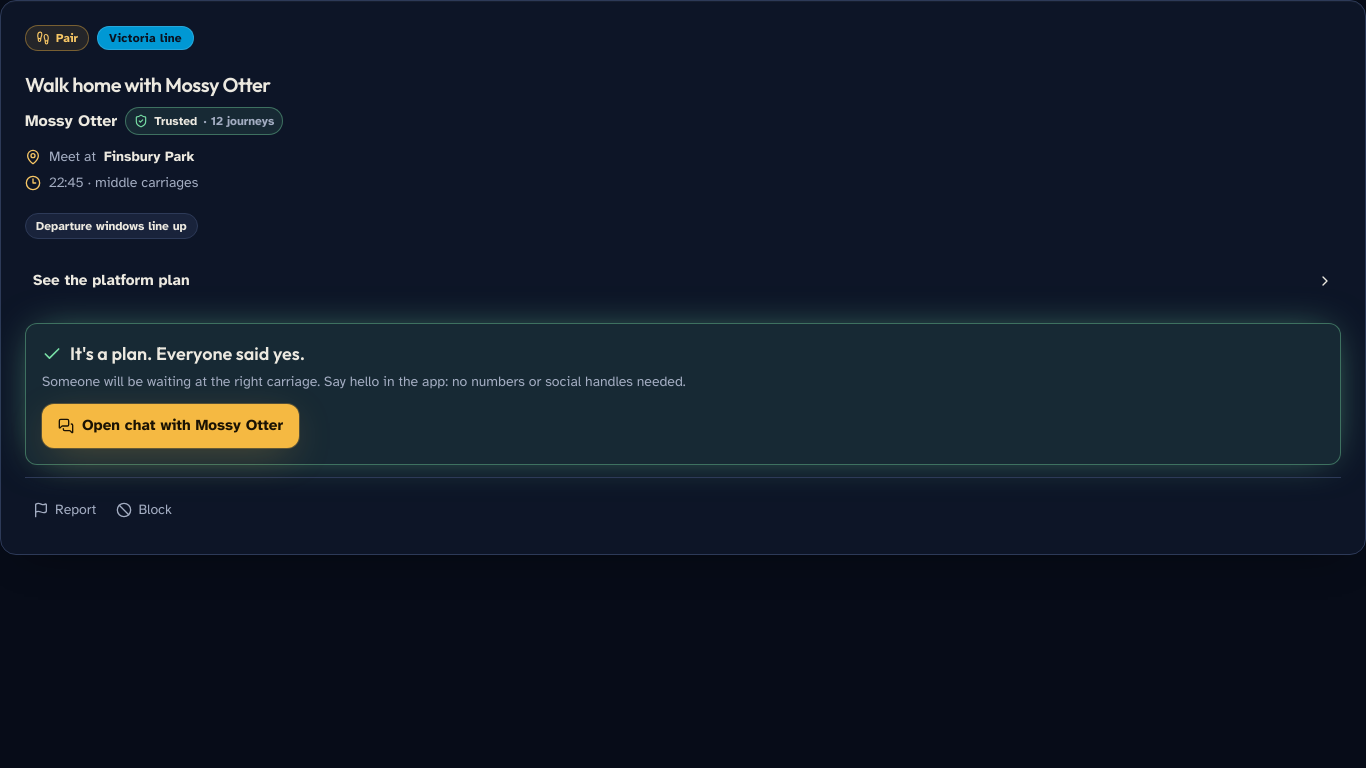
Scenario: "We travelled together" › goes idle → waiting for them → completed, and shows the updated badge
What coordinates should you click on to do the following:
click the button "See the platform plan"
I would click on:
 (111, 280)
Its box is [17, 258, 1349, 302].
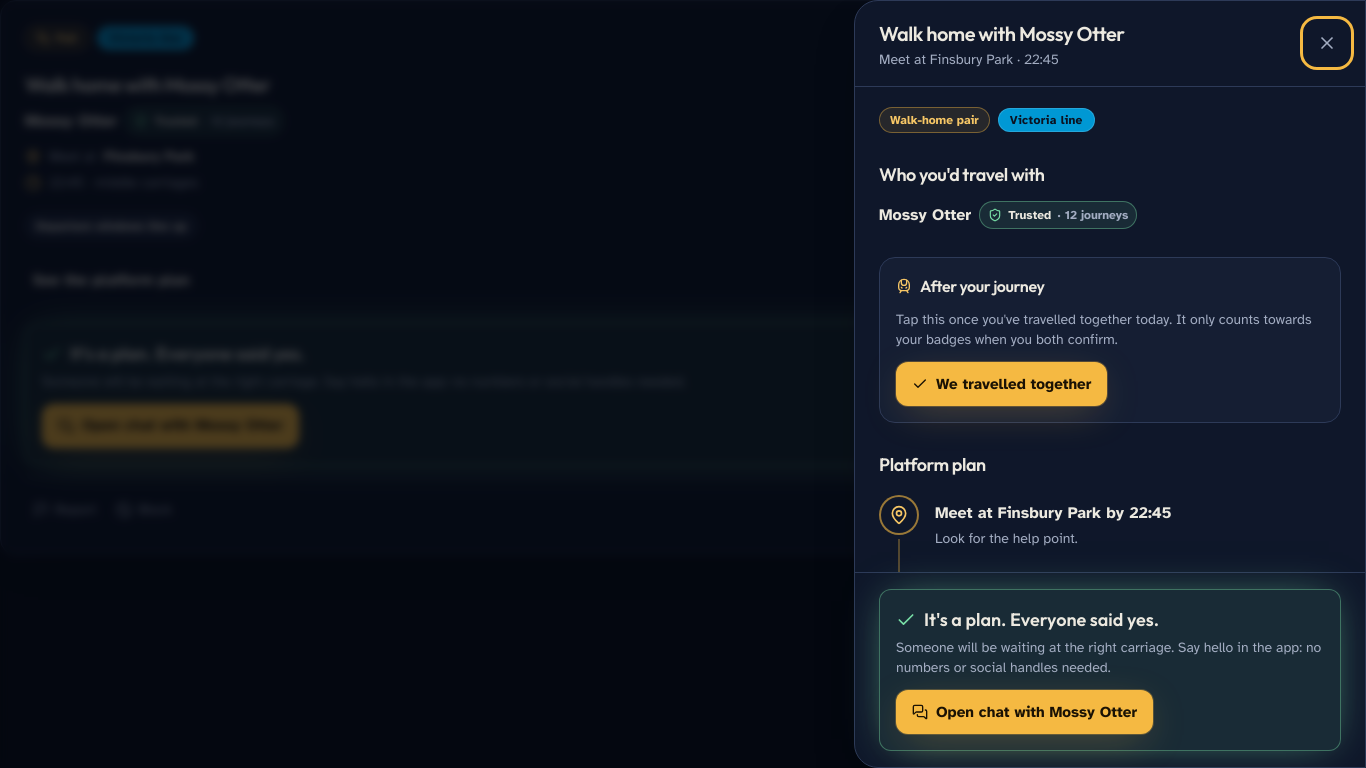
What coordinates should you click on to do the following:
click the button "We travelled together"
I would click on:
 (1002, 384)
Its box is [896, 362, 1107, 406].
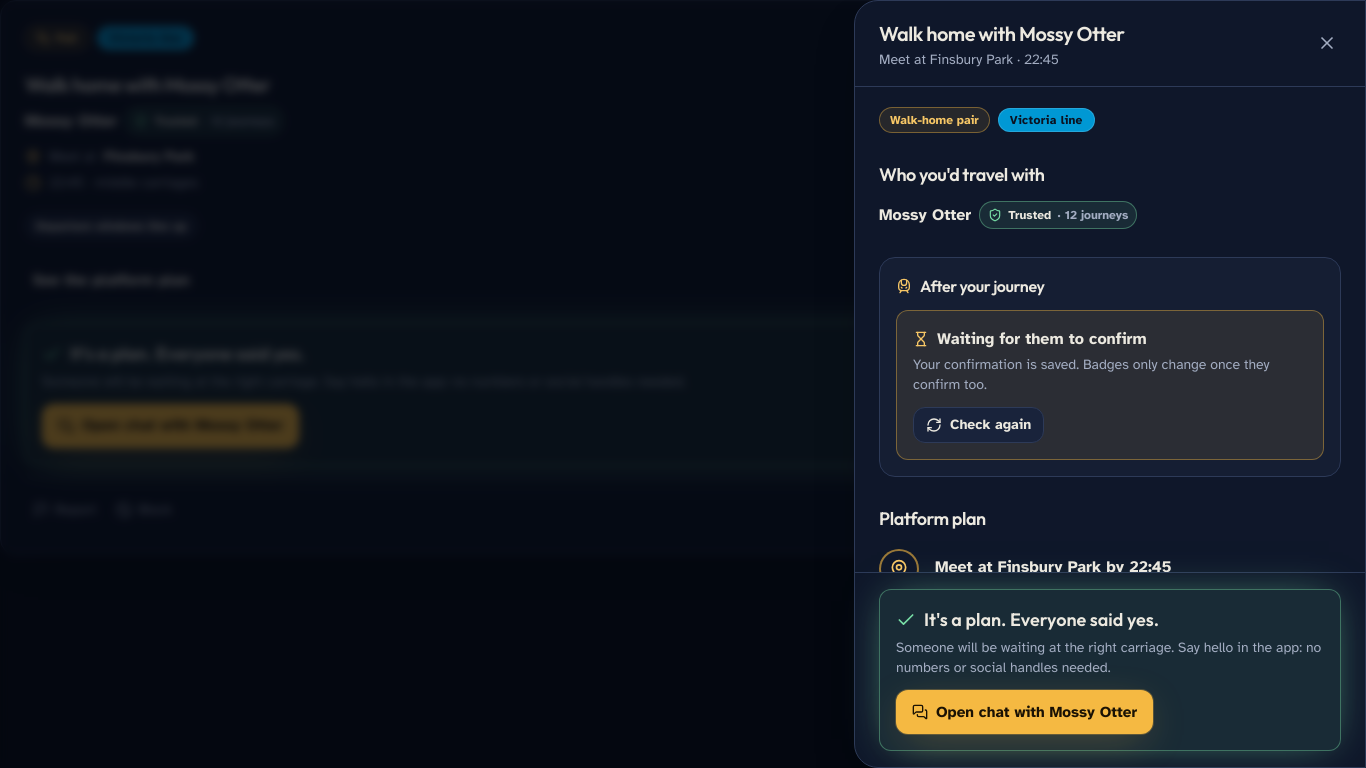
Expected: the text "Waiting for them to confirm" is shown, [913, 329, 1147, 349]
What coordinates should you click on to do the following:
click the button "Check again"
I would click on:
 (979, 425)
Its box is [913, 407, 1044, 443].
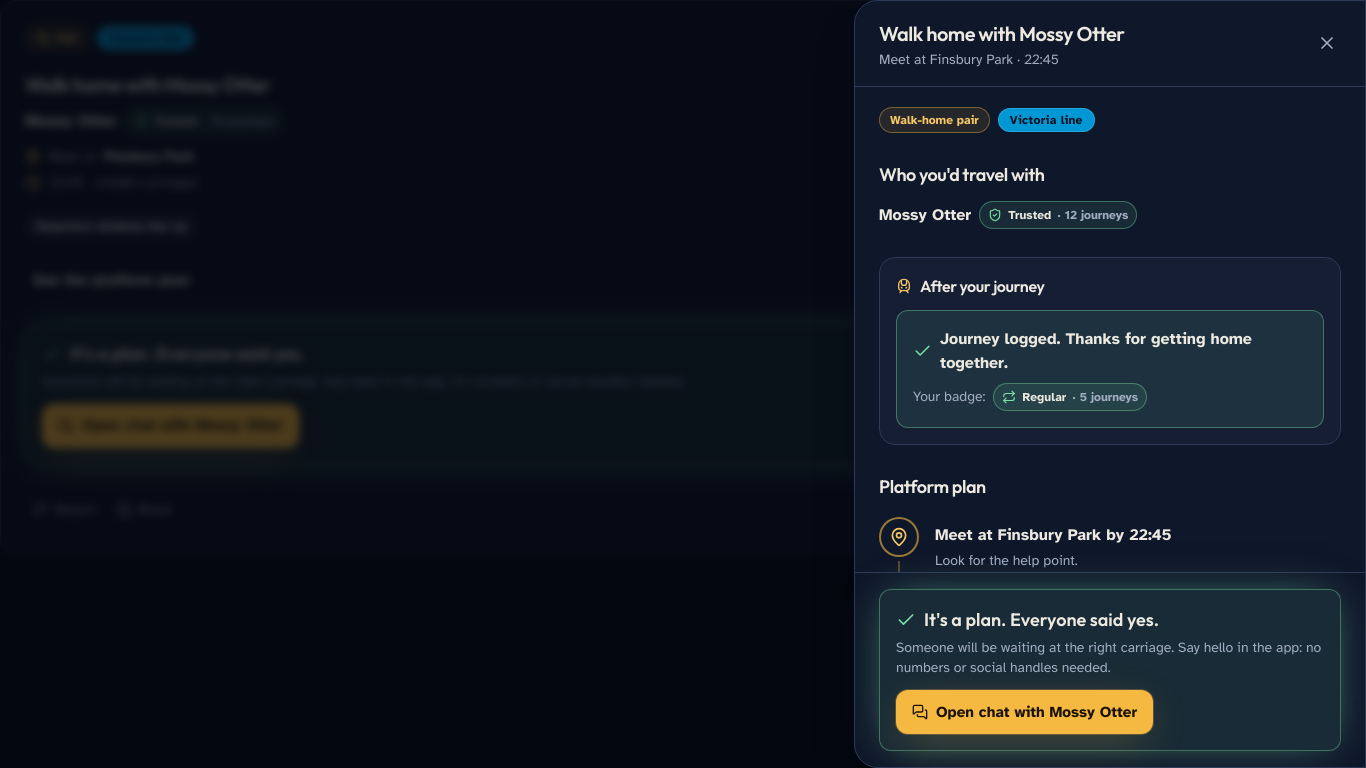
Expected: the button "We travelled together" is not shown
Expected: the text "Journey logged. Thanks for getting home together." is shown, [913, 327, 1307, 375]
Expected: the button with aria-label "Regular, 5 journeys" is shown, [994, 383, 1147, 411]
